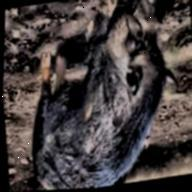boar: (9, 0, 189, 192)
